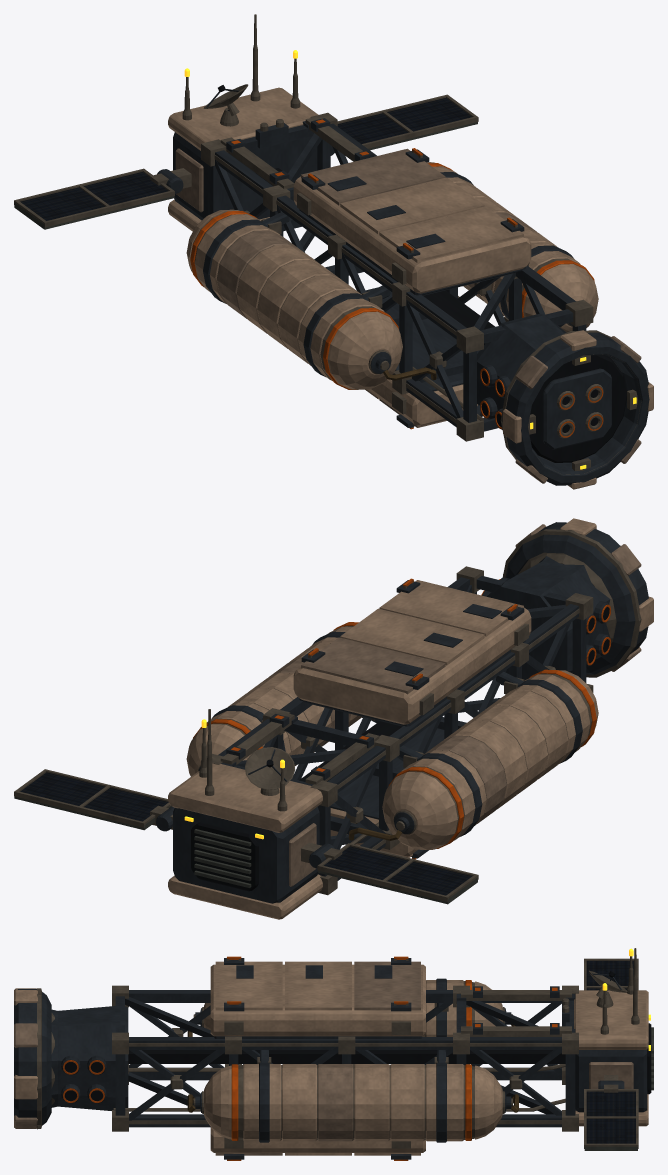
The model's file is base-depot-lod1.glb.
3 views of the same model, one above another, from view 1: azimuth 30°, elevation 25°; view 2: azimuth 150°, elevation 25°; view 3: azimuth 270°, elevation 25° (orthographic). The views are drawn at different scales.
Visible parts, largest first — view 1: Depot ceramic and hardware trim 1, Silica coverglass and photovoltaic cells 1; view 2: Depot ceramic and hardware trim 1, Silica coverglass and photovoltaic cells 1; view 3: Depot ceramic and hardware trim 1, Silica coverglass and photovoltaic cells 1.
Part boxes in pixels (<box>): Depot ceramic and hardware trim 1: <box>14,14,653,489</box>; Silica coverglass and photovoltaic cells 1: <box>20,98,472,220</box>; Depot ceramic and hardware trim 1: <box>14,518,653,919</box>; Silica coverglass and photovoltaic cells 1: <box>20,772,471,895</box>; Depot ceramic and hardware trim 1: <box>14,948,653,1160</box>; Silica coverglass and photovoltaic cells 1: <box>586,961,635,1143</box>.
Size of the model in its own units: 26.5 by 13.21 by 38.47.
4 materials, 2 textured.
